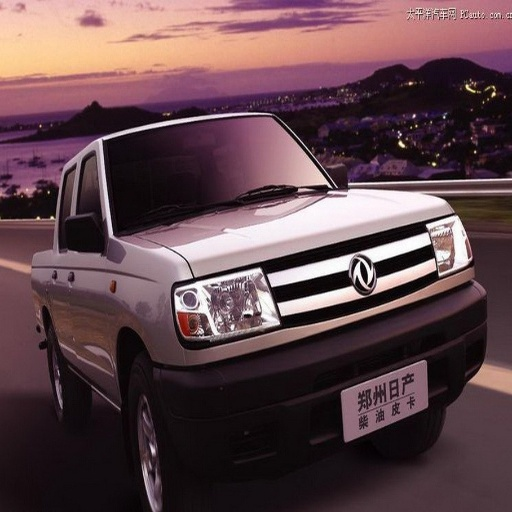front_bumper: (155, 218, 488, 474)
front_glass: (108, 116, 337, 232)
front_right_light: (173, 271, 278, 346)
trunk: (46, 263, 124, 344)
